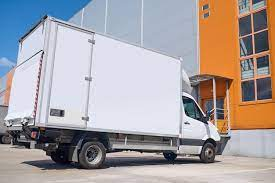Truck: (5, 16, 229, 169)
